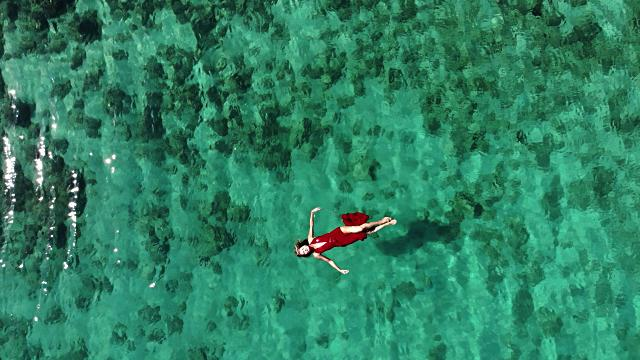human: (294, 206, 398, 276)
